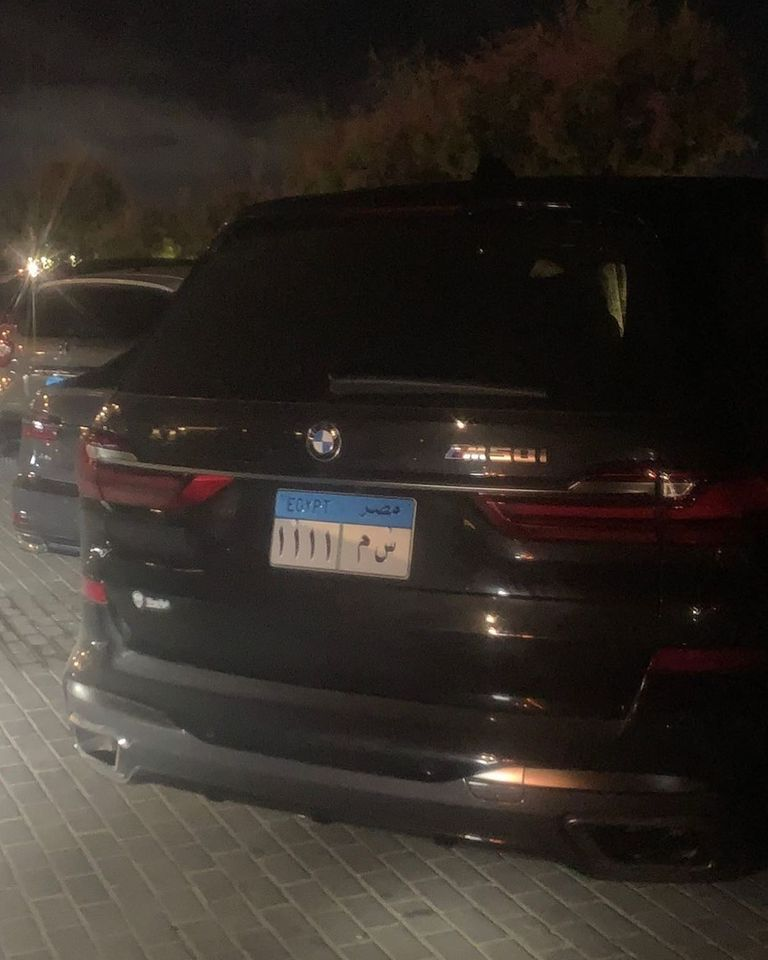carpl: (269, 517, 412, 574)
